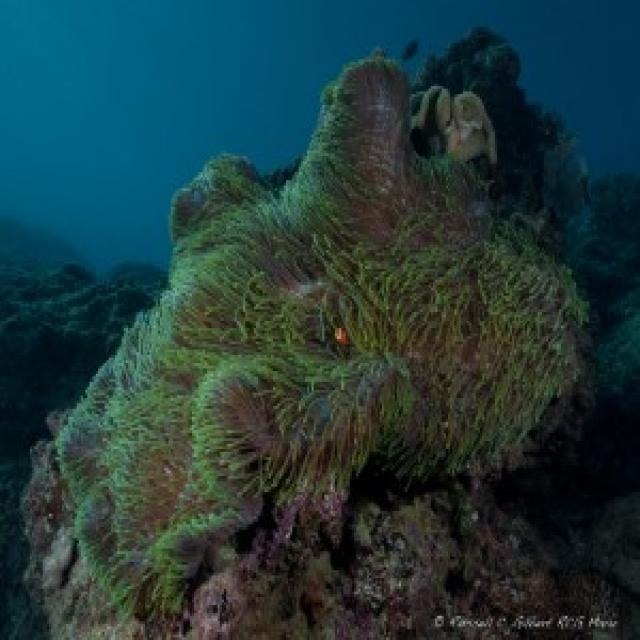Healthy: (56, 55, 586, 628)
